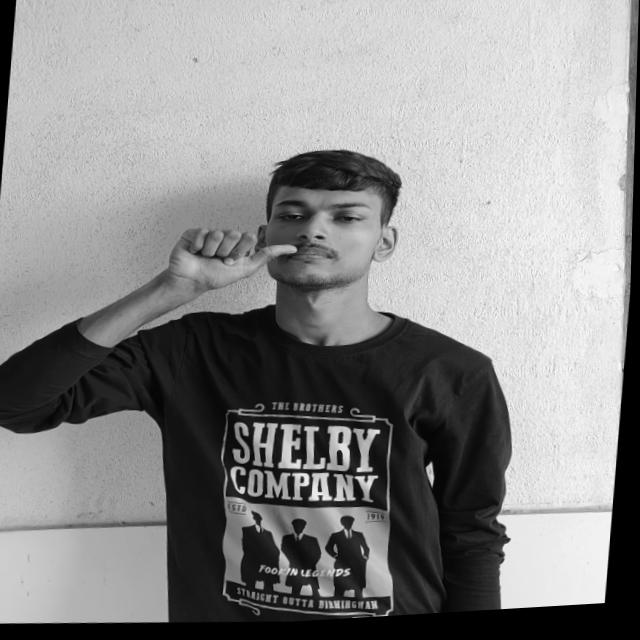Drink: (168, 223, 305, 292)
